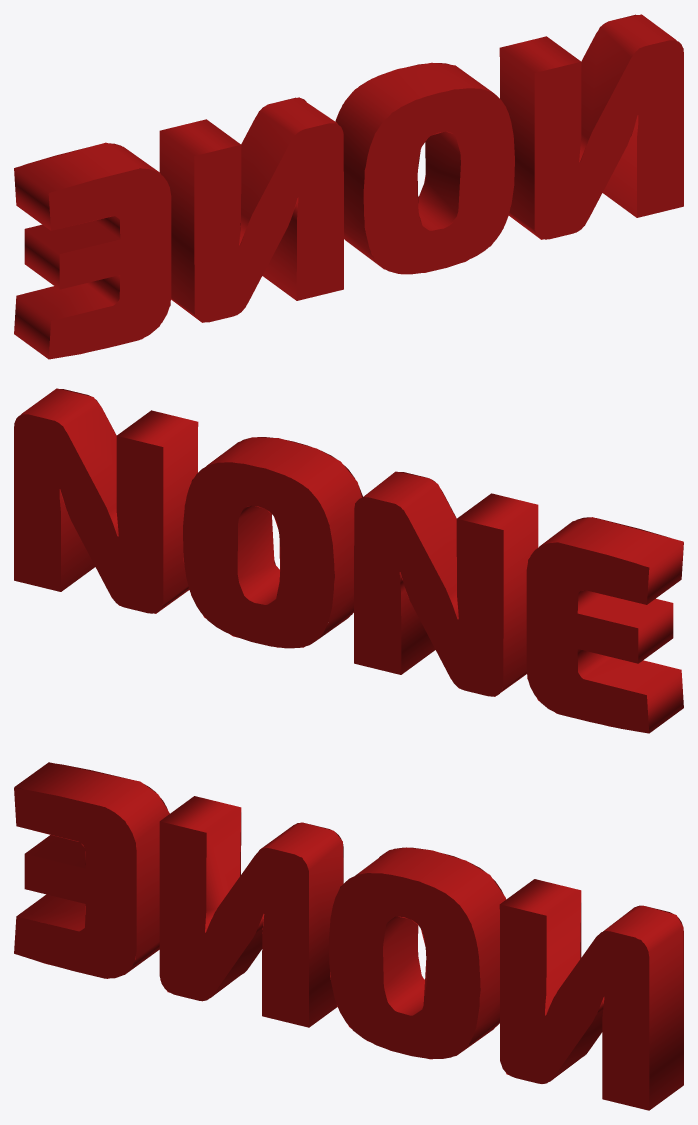
3 renders of one model, top to bottom at view 1: azimuth 30°, elevation 25°; view 2: azimuth 150°, elevation 25°; view 3: azimuth 330°, elevation 25°, orthographic.
Parts seen in each view (by area): view 1: Text; view 2: Text; view 3: Text.
Part boxes in pixels (box(x1,y1,x2,y2)): Text: box(14, 14, 683, 359); Text: box(14, 388, 683, 733); Text: box(14, 762, 683, 1110).
Bounding box in the file's own units: 8.45 × 2.25 × 0.8.
